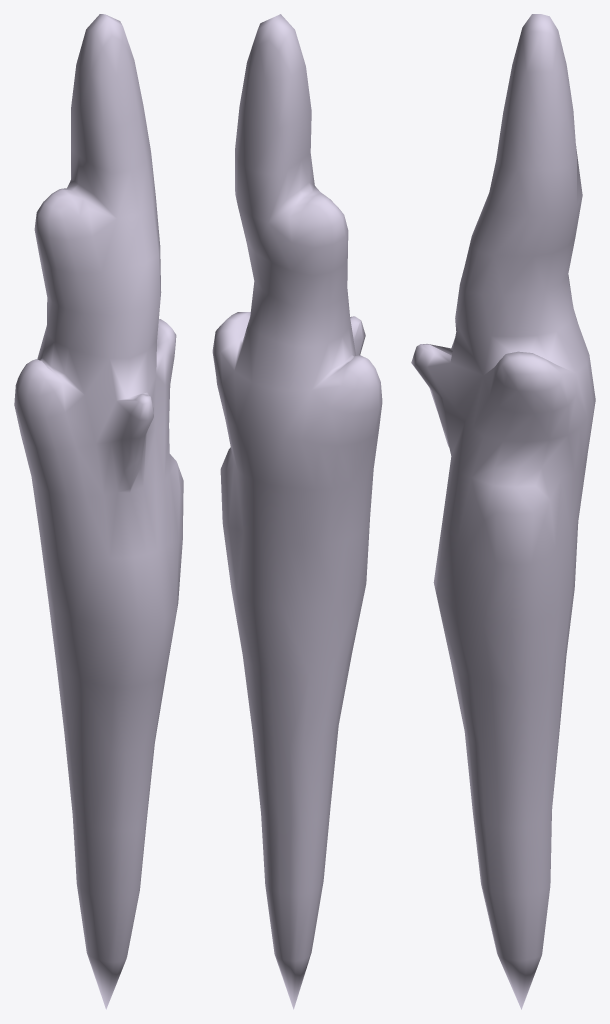
The model's file is Bush_01.fbx.
3 renders of one model, left to right at view 1: azimuth 30°, elevation 25°; view 2: azimuth 150°, elevation 25°; view 3: azimuth 270°, elevation 25°, orthographic.
Parts seen in each view (by area): view 1: Bush_01; view 2: Bush_01; view 3: Bush_01.
Part boxes in pixels (x1=…): Bush_01: x1=14, y1=14, x2=183, y2=1009; Bush_01: x1=212, y1=14, x2=382, y2=1009; Bush_01: x1=411, y1=14, x2=595, y2=1009.
Size of the model in its own units: 168 by 1016 by 170.
